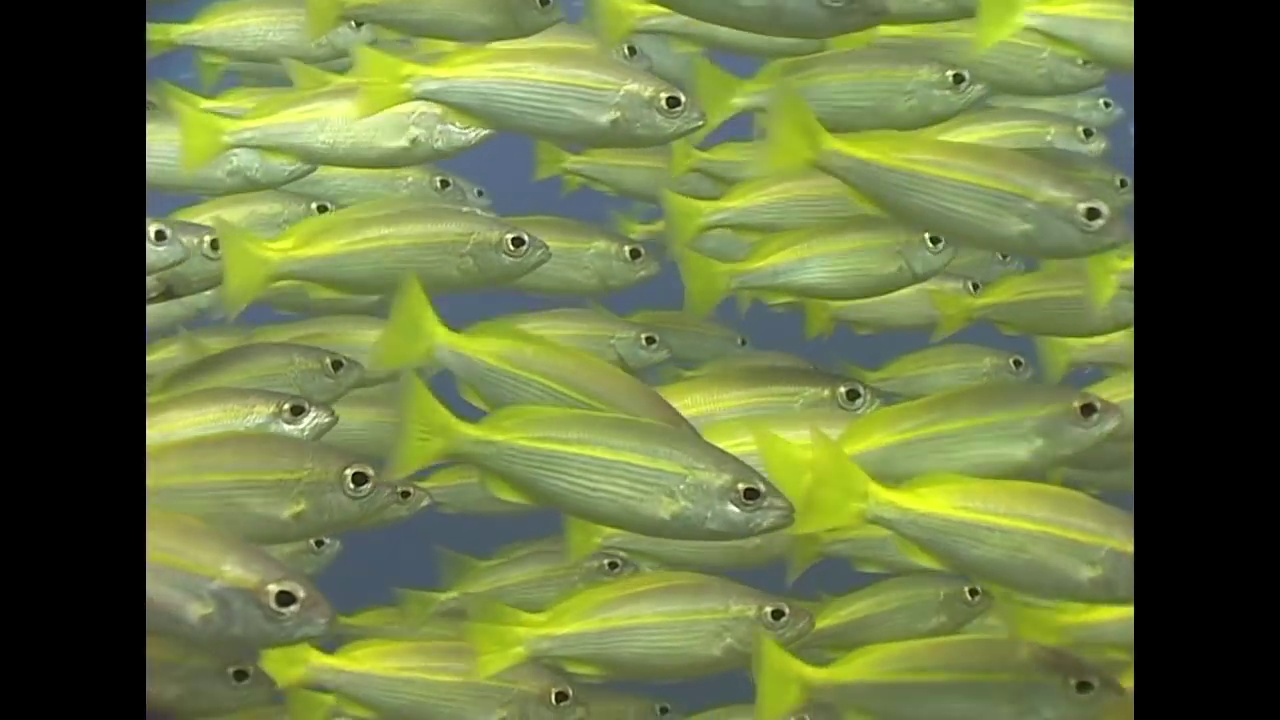big eye snapper: (394, 362, 794, 533), (804, 420, 1129, 604), (764, 82, 1128, 246), (390, 264, 702, 433), (350, 30, 714, 144), (162, 57, 497, 179), (217, 193, 553, 314), (753, 617, 1131, 713), (460, 580, 816, 677), (265, 617, 590, 714), (680, 38, 981, 133), (667, 221, 956, 318), (142, 514, 331, 647), (144, 442, 393, 537), (651, 372, 887, 448), (798, 571, 985, 660), (488, 210, 661, 305), (928, 256, 1134, 333), (451, 300, 675, 367), (528, 128, 723, 203), (660, 164, 891, 226), (894, 24, 1115, 88), (144, 386, 340, 455), (151, 339, 356, 404), (146, 625, 282, 715), (150, 11, 374, 61), (840, 337, 1025, 397), (427, 535, 634, 586), (925, 102, 1104, 151), (925, 104, 1107, 151), (149, 210, 226, 302)
